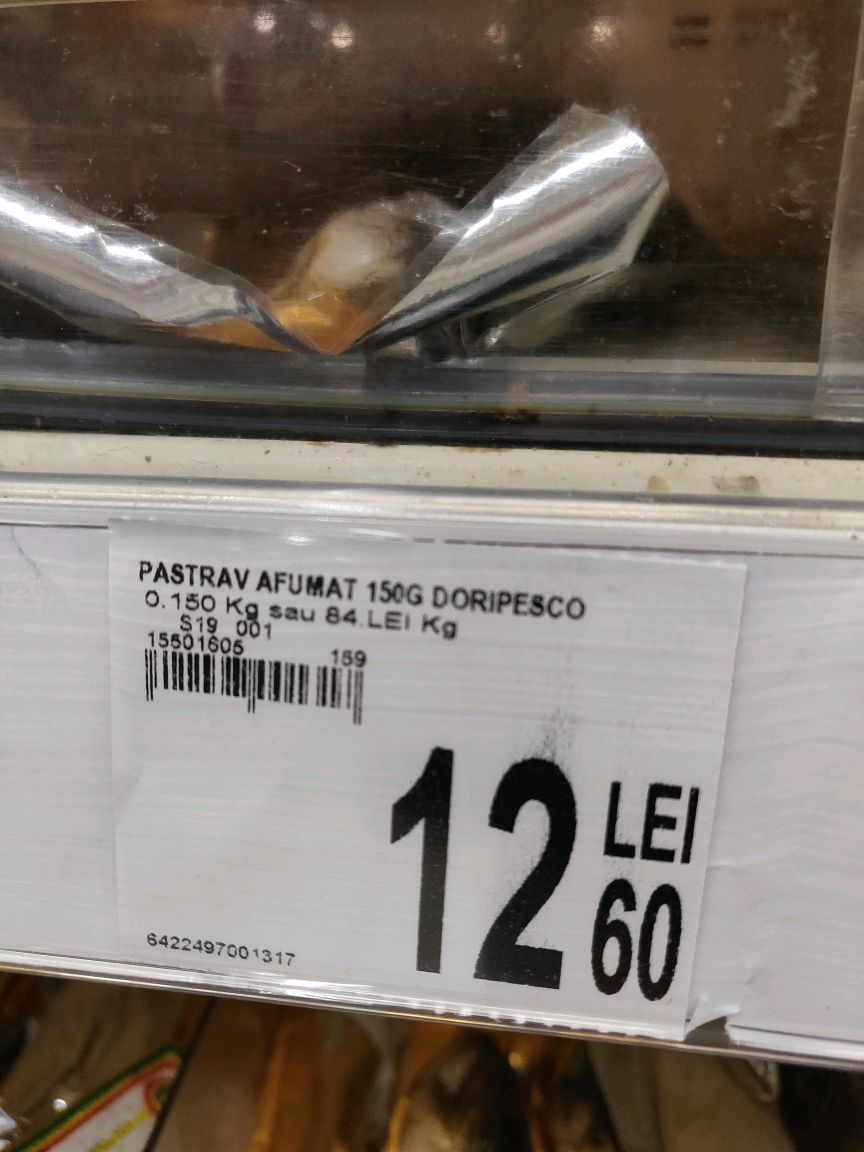price_bani: (580, 875, 705, 1017)
price_lei: (382, 727, 585, 1012)
price_tag: (97, 509, 752, 1055)
product_id: (138, 930, 312, 970)
product_name: (133, 548, 592, 623)
